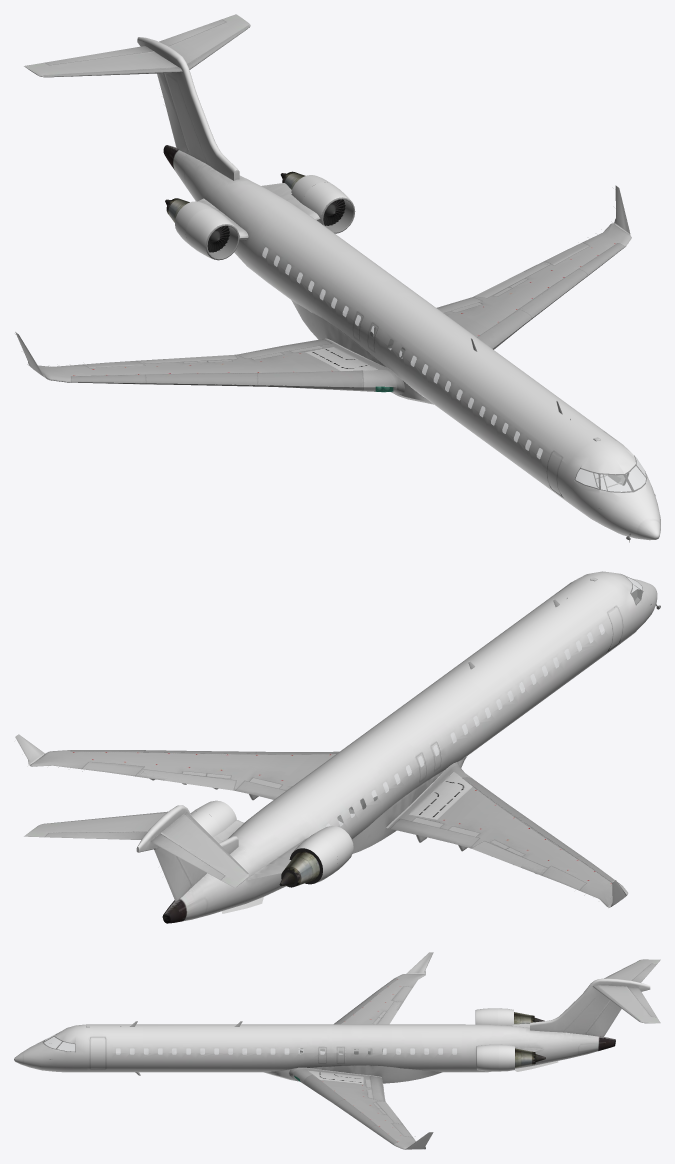
Rendered from CRJ9.glb.
The picture shows the model from 3 angles, top to bottom: view 1: azimuth 30°, elevation 25°; view 2: azimuth 150°, elevation 25°; view 3: azimuth 270°, elevation 25°; orthographic projection. The views are drawn at different scales.
Visible parts, largest first — view 1: Winglets, Windows, Nozzle, WingWires; view 2: Winglets, Windows, Nozzle, WingWires; view 3: Winglets, Windows, Nozzle.
Boxes of the visible parts, x1,y1,x2,y2 form: Winglets: (15, 14, 660, 540); Windows: (262, 247, 645, 491); Nozzle: (165, 171, 355, 260); WingWires: (15, 199, 655, 542); Winglets: (15, 571, 657, 923); Windows: (326, 576, 642, 826); Nozzle: (280, 851, 319, 886); WingWires: (58, 577, 660, 895); Winglets: (14, 952, 660, 1149); Windows: (44, 1034, 456, 1081); Nozzle: (475, 1010, 545, 1069).
Size of the model in its own units: 23.91 by 6.09 by 36.36.
4 materials, 4 textured.
